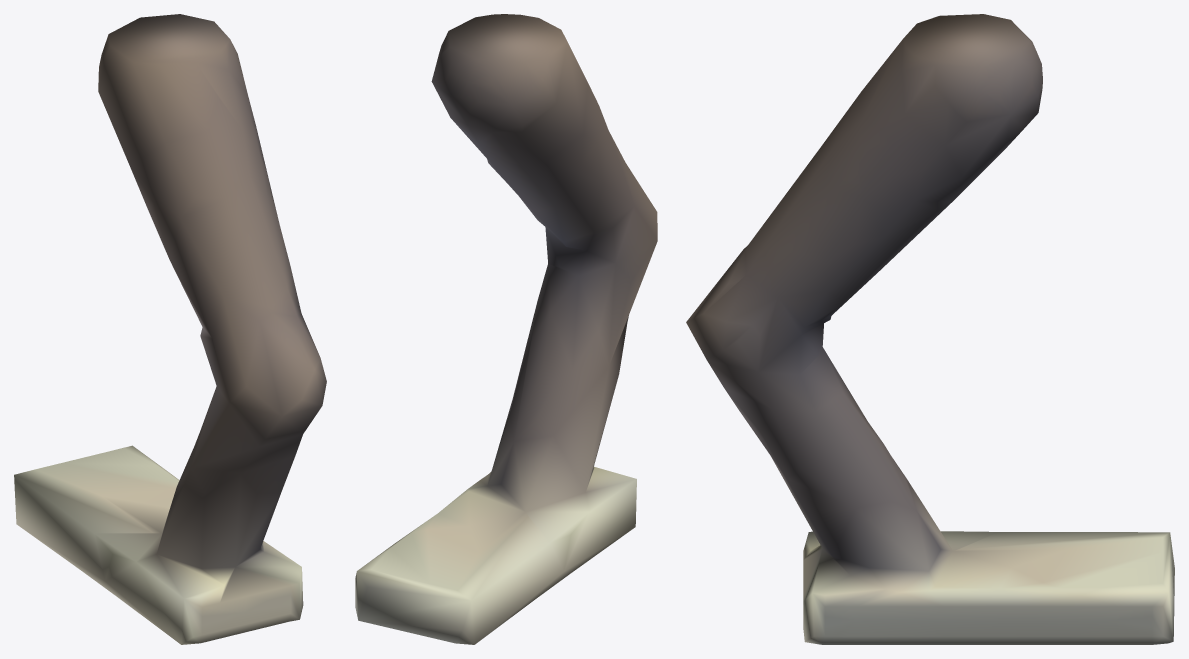
The model's file is husk_shin_r.glb.
3 renders of one model, left to right at view 1: azimuth 30°, elevation 25°; view 2: azimuth 150°, elevation 25°; view 3: azimuth 270°, elevation 25°, orthographic. The views are drawn at different scales.
Visible parts, largest first — view 1: geometry_0; view 2: geometry_0; view 3: geometry_0.
Boxes of the visible parts, bbox=[...] form: geometry_0: bbox=[14, 14, 326, 644]; geometry_0: bbox=[355, 14, 657, 644]; geometry_0: bbox=[686, 14, 1174, 644].
Size of the model in its own units: 0.14 by 0.5803 by 0.4483.
